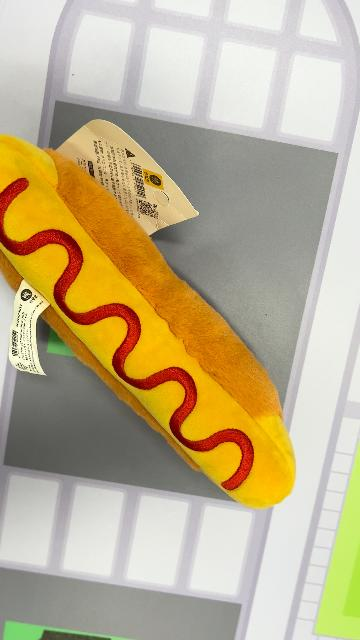hotdog: (0, 130, 296, 512)
